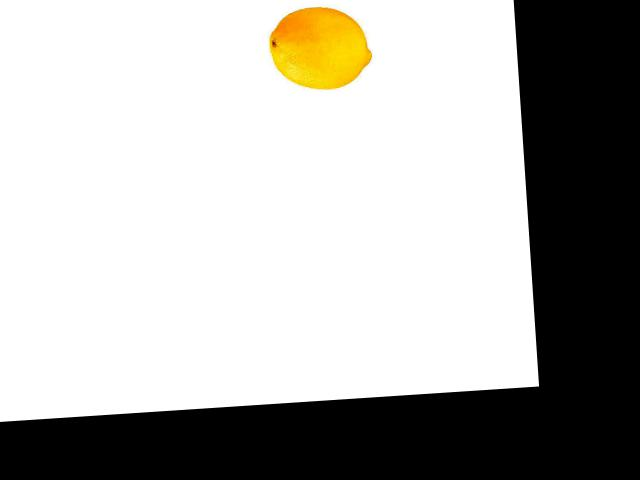lemon: (265, 2, 375, 96)
